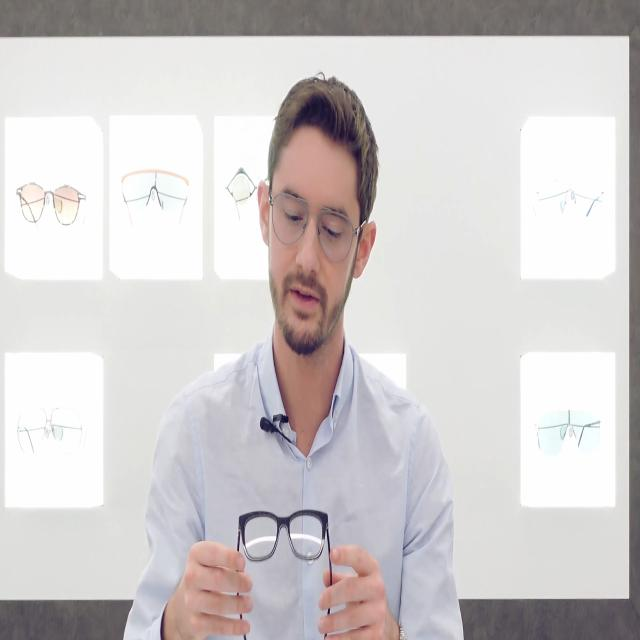glasses: (267, 188, 355, 265), (240, 508, 327, 563), (120, 167, 190, 224), (18, 180, 80, 230)
